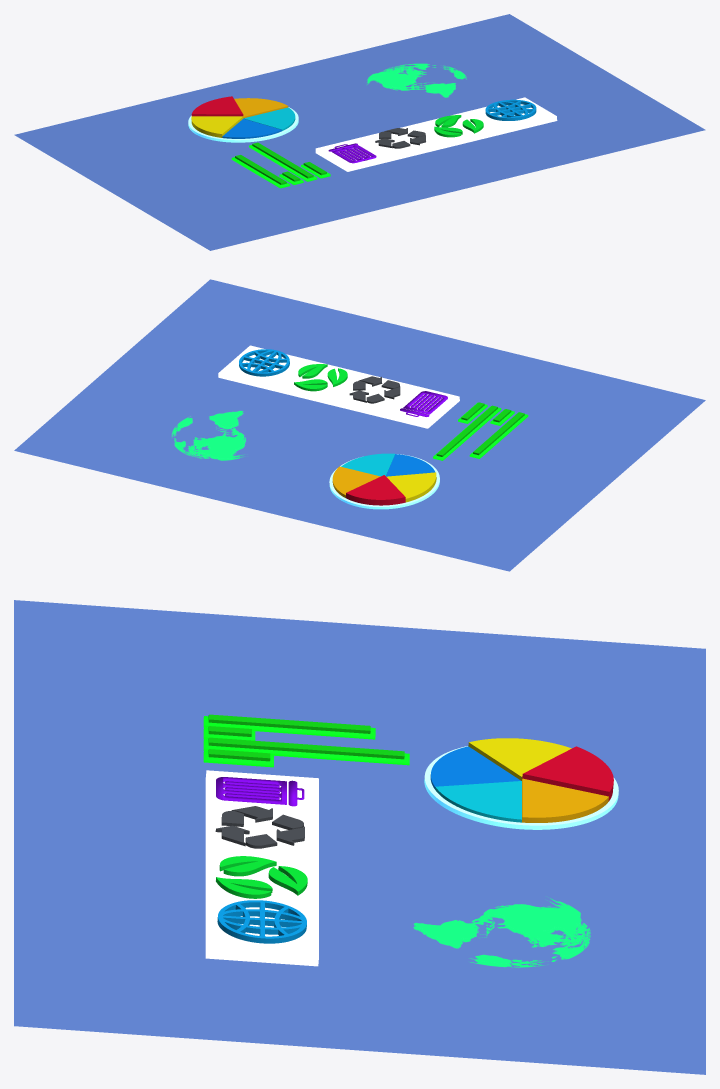
The model's file is 14 Mei 2024.glb.
3 views of the same model, one above another, from view 1: azimuth 30°, elevation 25°; view 2: azimuth 150°, elevation 25°; view 3: azimuth 270°, elevation 25° (orthographic). The views are drawn at different scales.
Visible parts, largest first — view 1: Plane.001, Cube, Slice_2, Bumi 2@5x-8, Curve.012, Curve.011, Curve.019, Curve.017, Curve.005, Cylinder, Curve; view 2: Plane.001, Cube, Slice_2, Bumi 2@5x-8, Curve.012, Curve.011, Curve.019, Curve.017, Curve.005, Curve, Cylinder; view 3: Plane.001, Cube, Slice_2, Bumi 2@5x-8, Curve.012, Curve.011, Curve.019, Curve.017, Curve.005, Curve, Cylinder.
Boxes of the visible parts, <box> form: Plane.001: <box>14,14,705,250</box>; Cube: <box>315,97,557,171</box>; Slice_2: <box>191,96,295,138</box>; Bumi 2@5x-8: <box>367,63,466,97</box>; Curve.012: <box>235,142,326,184</box>; Curve.011: <box>485,99,536,120</box>; Curve.019: <box>231,145,330,188</box>; Curve.017: <box>434,115,483,137</box>; Curve.005: <box>375,128,425,148</box>; Cylinder: <box>188,107,298,142</box>; Curve: <box>328,143,376,163</box>; Plane.001: <box>14,279,705,571</box>; Cube: <box>218,345,459,428</box>; Slice_2: <box>332,453,436,505</box>; Bumi 2@5x-8: <box>171,410,245,460</box>; Curve.012: <box>436,402,524,456</box>; Curve.011: <box>239,349,289,376</box>; Curve.019: <box>433,402,528,460</box>; Curve.017: <box>294,364,347,391</box>; Curve.005: <box>349,376,400,403</box>; Curve: <box>400,391,447,416</box>; Cylinder: <box>329,454,439,509</box>; Plane.001: <box>14,600,705,1074</box>; Cube: <box>205,770,318,966</box>; Slice_2: <box>430,738,613,822</box>; Bumi 2@5x-8: <box>413,896,590,967</box>; Curve.012: <box>208,714,404,761</box>; Curve.011: <box>217,900,306,943</box>; Curve.019: <box>203,716,409,767</box>; Curve.017: <box>216,856,307,898</box>; Curve.005: <box>215,806,304,848</box>; Curve: <box>216,777,304,806</box>; Cylinder: <box>424,746,618,829</box>.
Size of the model in its own units: 4.35 by 0.2456 by 2.98.
Materials: 16 (1 with a texture image).
